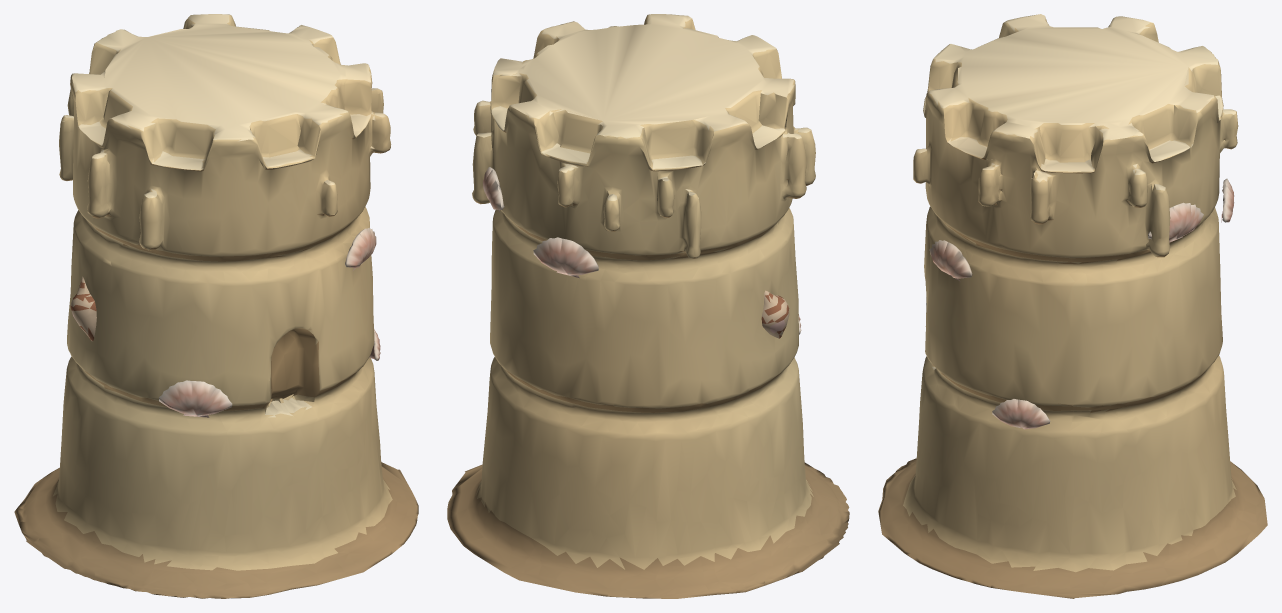
File: shore_castle_tower.glb
3 views of the same model, side by side, from view 1: azimuth 30°, elevation 25°; view 2: azimuth 150°, elevation 25°; view 3: azimuth 270°, elevation 25° (orthographic).
Parts seen in each view (by area): view 1: shore_castle_tower; view 2: shore_castle_tower; view 3: shore_castle_tower.
Part boxes in pixels (x1,y1,x2,y2): shore_castle_tower: (14, 14, 418, 598); shore_castle_tower: (447, 14, 849, 598); shore_castle_tower: (878, 14, 1267, 598).
Size of the model in its own units: 11.92 by 14 by 11.31.
